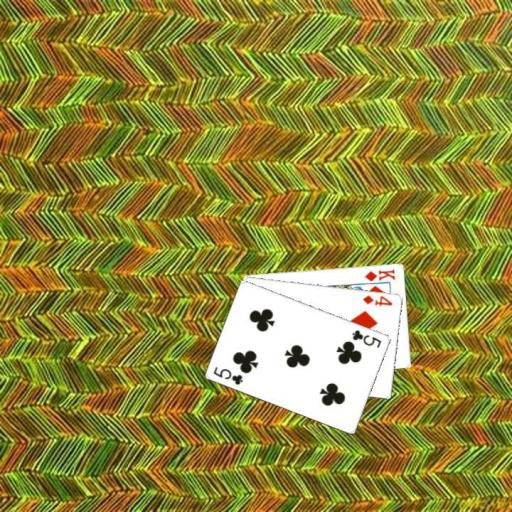4D: (360, 292, 394, 307)
5C: (349, 327, 383, 350), (211, 364, 245, 387)
KD: (361, 266, 397, 283)
